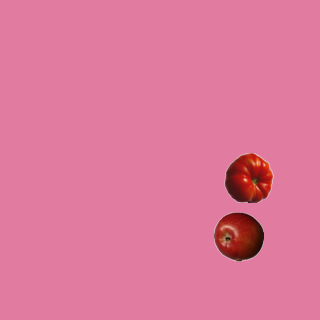Apple Braeburn: (213, 211, 263, 261)
Tomato 3: (223, 152, 273, 202)
